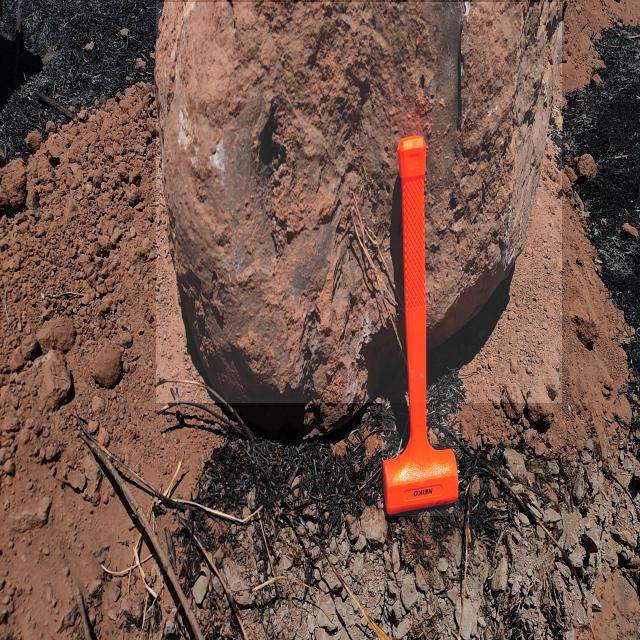Orange_hammer: (382, 133, 459, 516)
rock: (156, 2, 562, 403)
